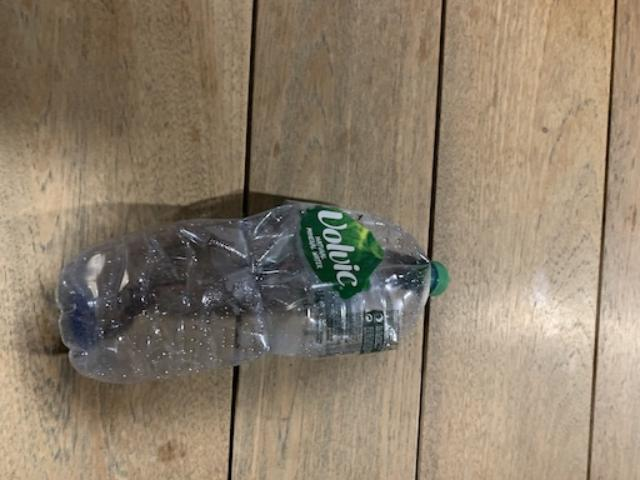plastic: (56, 201, 445, 380)
